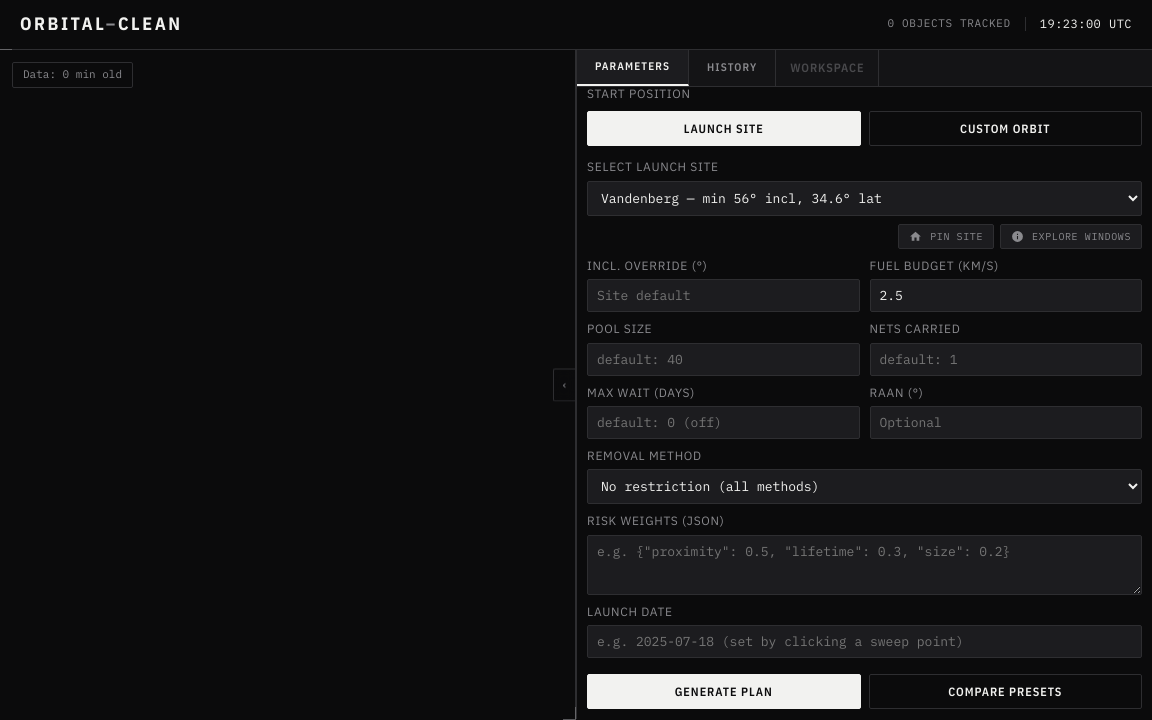
Scenario: RENDER-b) RECOMMENDED badge renders only on the highest-efficiency card › badge appears on Risk-Aggressive (highest efficiency) and nowhere else
(page scrolled)
Click the button "Compare Presets". click: (1005,692)
box: x1=868 y1=674 x2=1142 y2=709
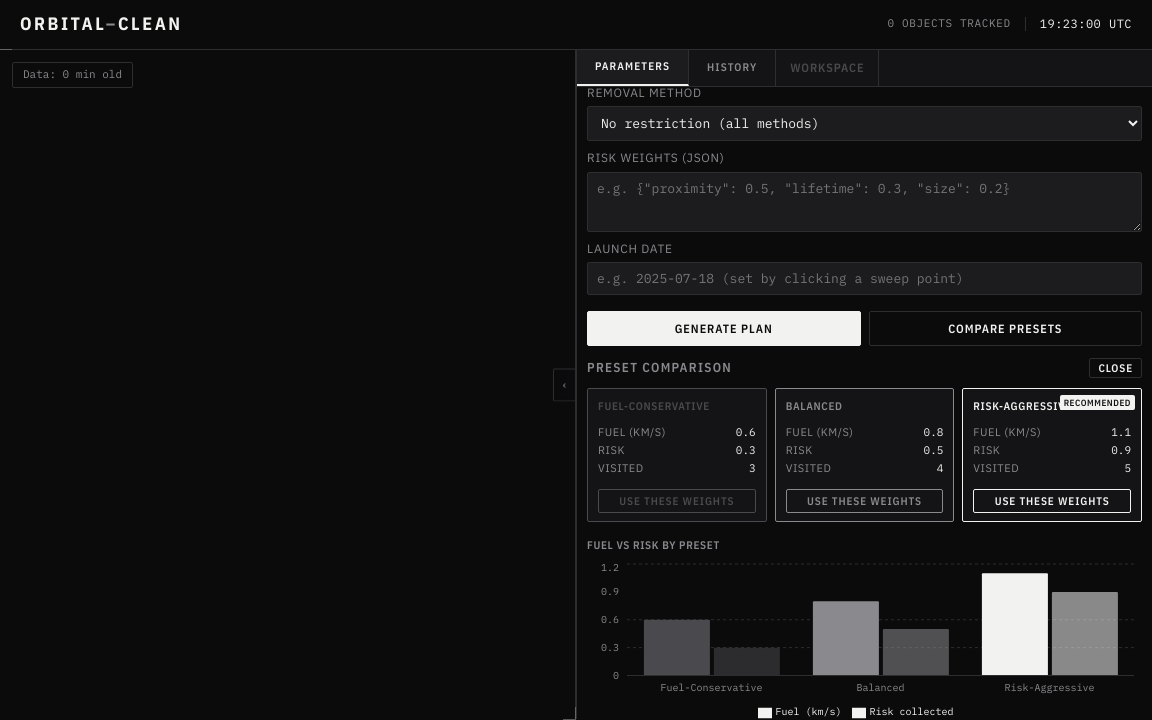
Result: the text "Recommended" is shown at x1=1060 y1=395 x2=1135 y2=410
